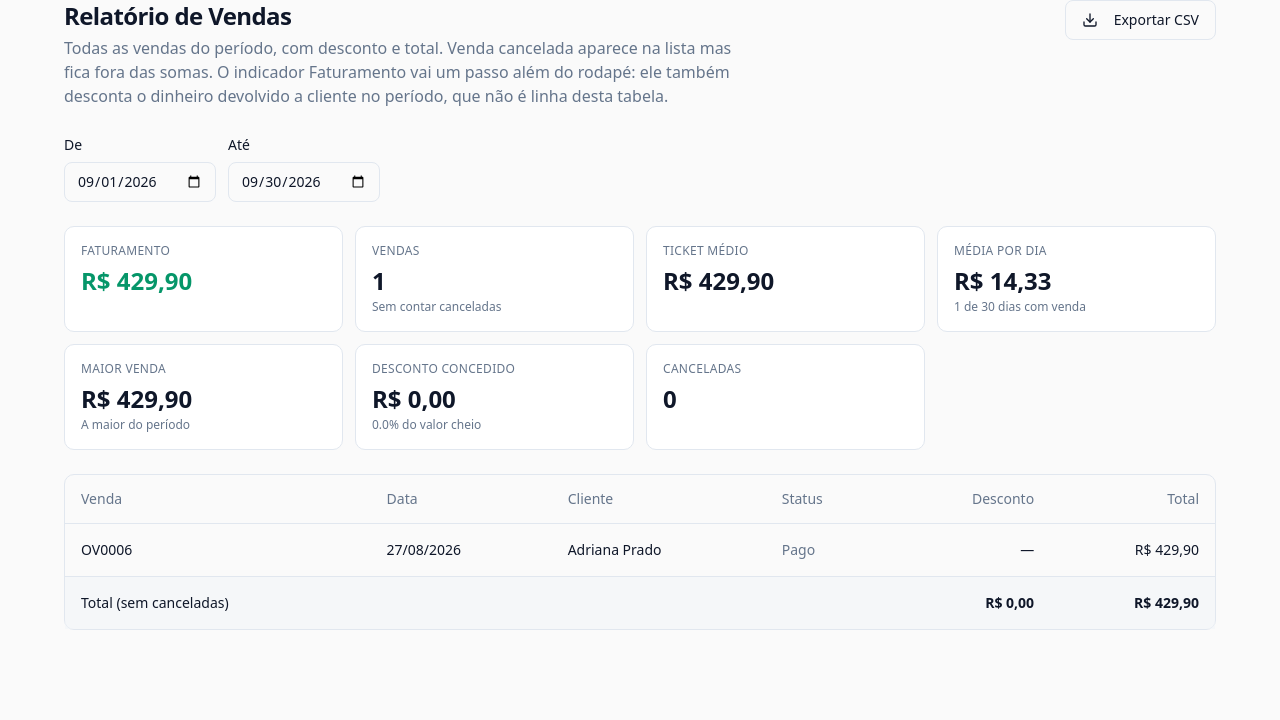
Test: Relatório de Vendas: quem abre a ficha da venda › quem tem acesso a Venda abre a ficha clicando na linha
Click the text "OV0006". click: [107, 549]
box: [81,540,132,558]
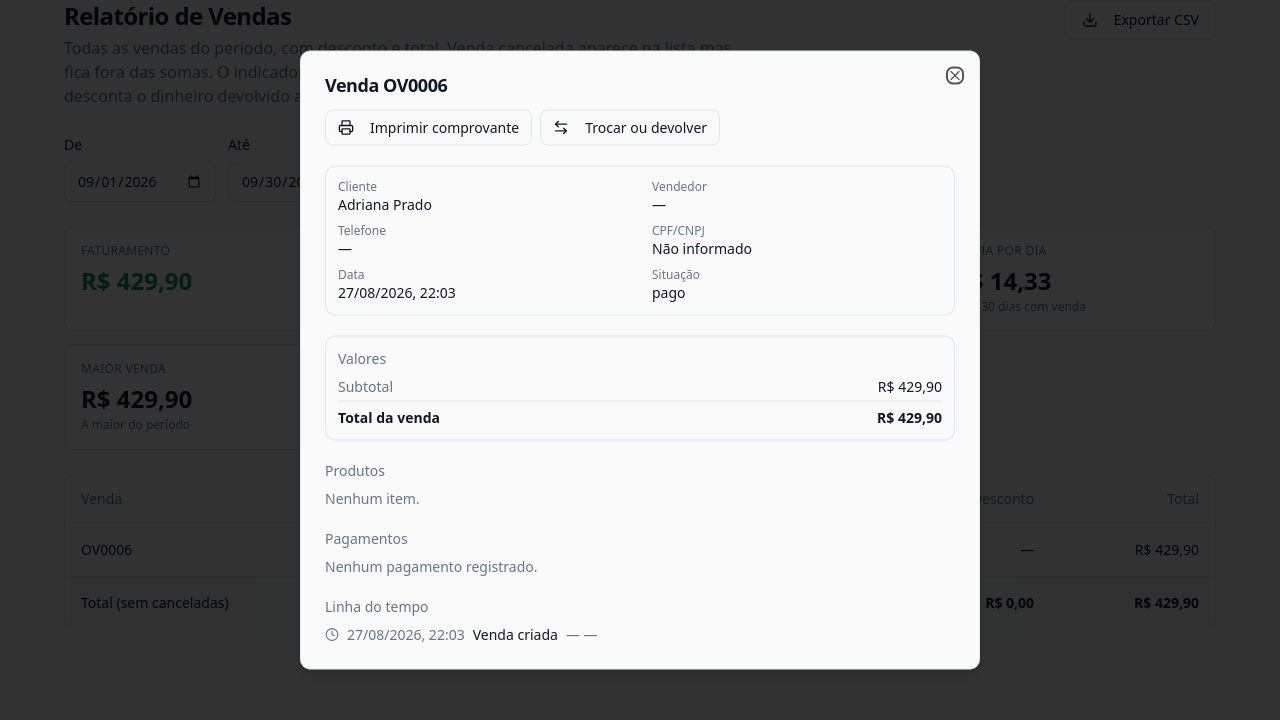
Check: the dialog is shown, box [300,50,980,670]
